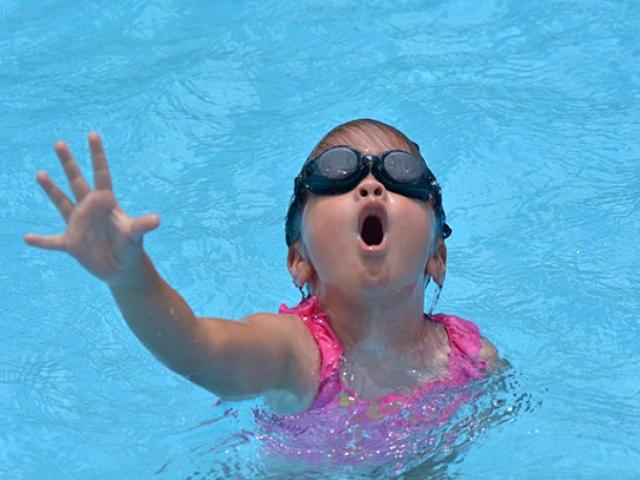drowning: (19, 117, 507, 480)
